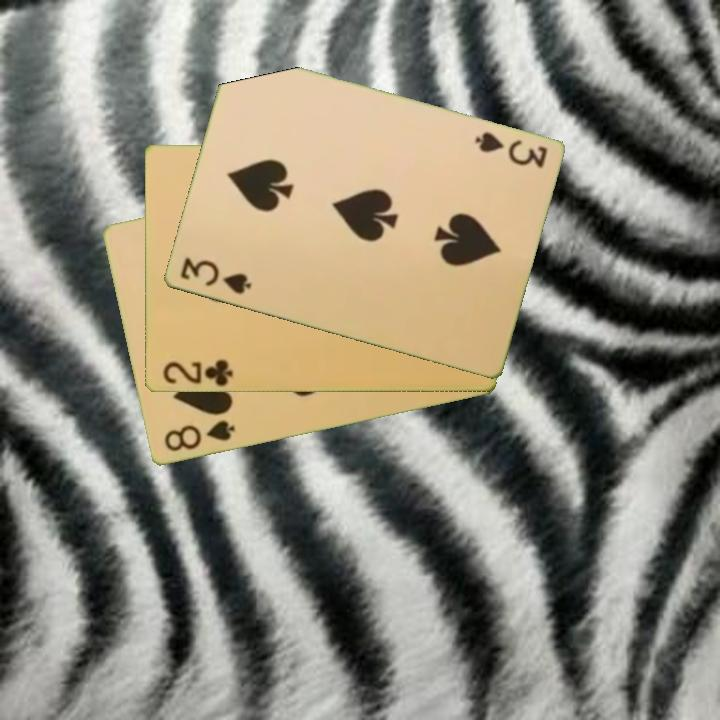2c: (160, 357, 236, 389)
3s: (176, 254, 254, 298), (471, 128, 550, 171)
8s: (160, 417, 238, 455)
